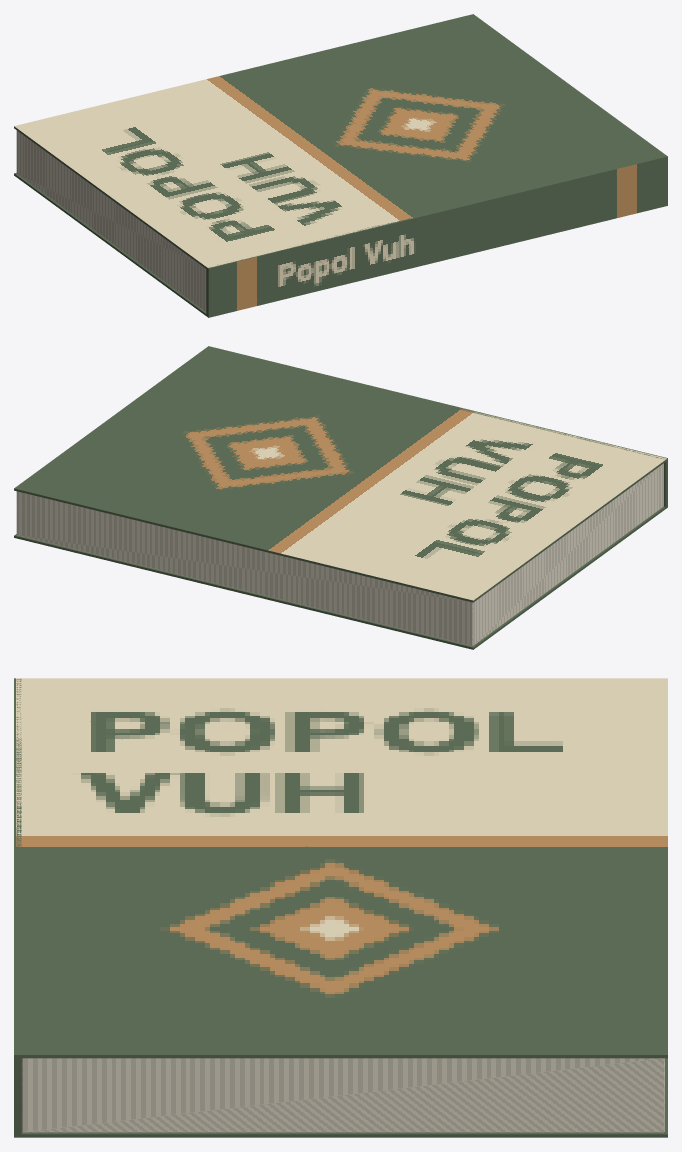
Rendered from holybook_maya.glb.
3 views of the same model, one above another, from view 1: azimuth 30°, elevation 25°; view 2: azimuth 150°, elevation 25°; view 3: azimuth 270°, elevation 25° (orthographic). The views are drawn at different scales.
Parts seen in each view (by area): view 1: block_front, block_spine, block_pages, block_back; view 2: block_front, block_pages, block_back, block_spine; view 3: block_front, block_pages, block_back, block_spine.
Part boxes in pixels (x1=…): block_front: x1=14, y1=14, x2=665, y2=269; block_spine: x1=206, y1=155, x2=667, y2=317; block_pages: x1=16, y1=130, x2=206, y2=311; block_back: x1=14, y1=173, x2=207, y2=316; block_front: x1=14, y1=346, x2=667, y2=602; block_pages: x1=16, y1=463, x2=663, y2=646; block_back: x1=14, y1=506, x2=667, y2=649; block_spine: x1=207, y1=346, x2=667, y2=507; block_front: x1=16, y1=678, x2=667, y2=1058; block_pages: x1=21, y1=1058, x2=664, y2=1132; block_back: x1=16, y1=1058, x2=667, y2=1137; block_spine: x1=14, y1=678, x2=21, y2=1137.
Bounding box in the file's own units: 0.252 × 0.0259 × 0.1849.
Materials: 1 (1 with a texture image).
